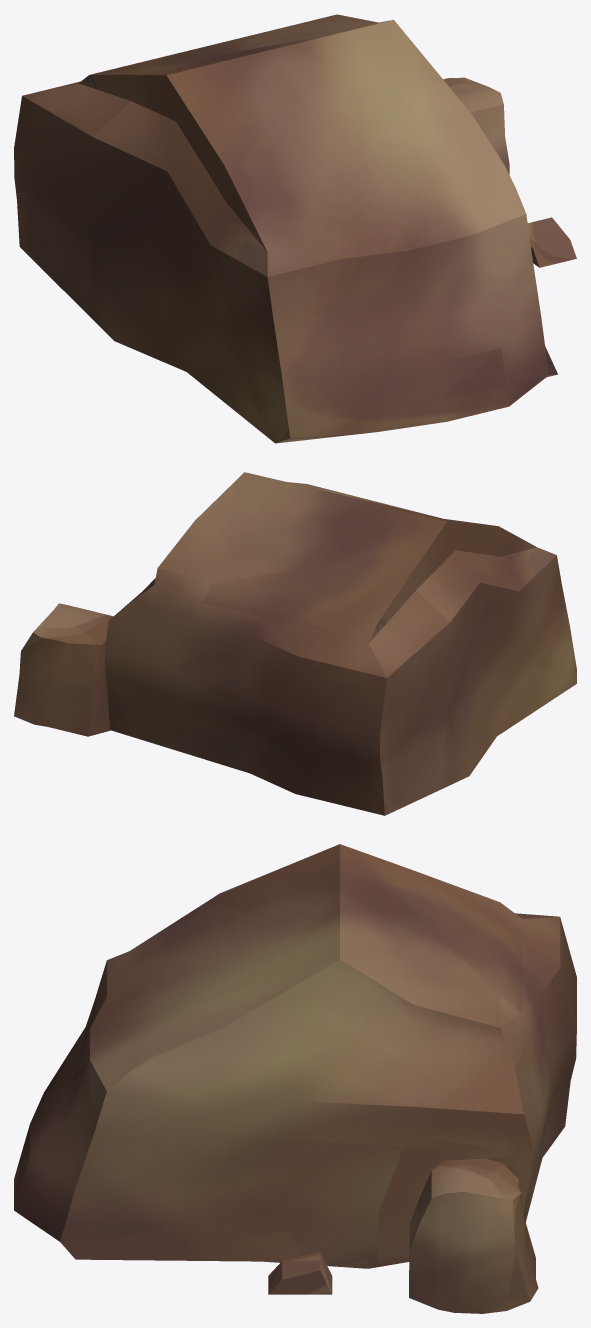
The model's file is batu1.fbx.
The picture shows the model from 3 angles, top to bottom: view 1: azimuth 30°, elevation 25°; view 2: azimuth 150°, elevation 25°; view 3: azimuth 270°, elevation 25°; orthographic projection. The views are drawn at different scales.
Parts seen in each view (by area): view 1: batu2; view 2: batu2; view 3: batu2.
Part boxes in pixels (bbox=[...]): batu2: bbox=[14, 14, 576, 443]; batu2: bbox=[14, 472, 576, 815]; batu2: bbox=[14, 844, 576, 1313].
Size of the model in its own units: 349 by 209 by 379.
